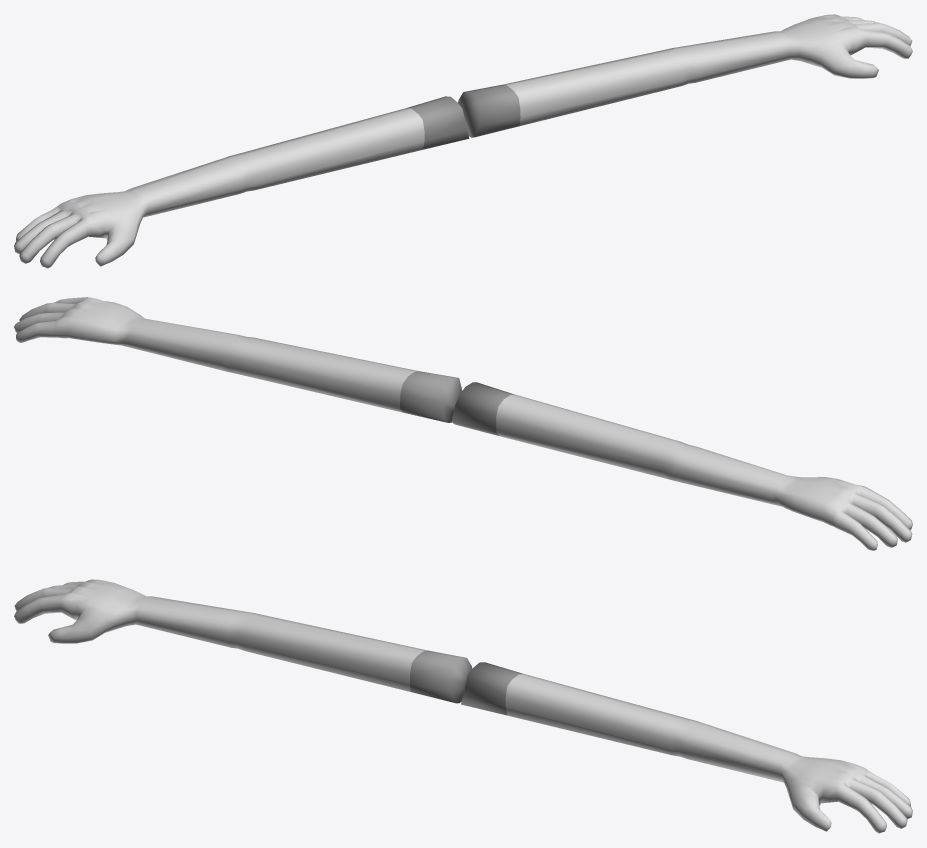
Rendered from Arms.fbx.
3 renders of one model, top to bottom at view 1: azimuth 30°, elevation 25°; view 2: azimuth 150°, elevation 25°; view 3: azimuth 330°, elevation 25°, orthographic.
Visible parts, largest first — view 1: RightArm, LeftArm; view 2: RightArm, LeftArm; view 3: LeftArm, RightArm.
Boxes of the visible parts, bbox=[...] form: RightArm: bbox=[14, 96, 469, 268]; LeftArm: bbox=[458, 14, 912, 137]; RightArm: bbox=[451, 382, 912, 550]; LeftArm: bbox=[14, 297, 462, 422]; LeftArm: bbox=[461, 662, 912, 833]; RightArm: bbox=[14, 579, 472, 703].
Bounding box in the file's own units: 351 × 21.34 × 30.96.
